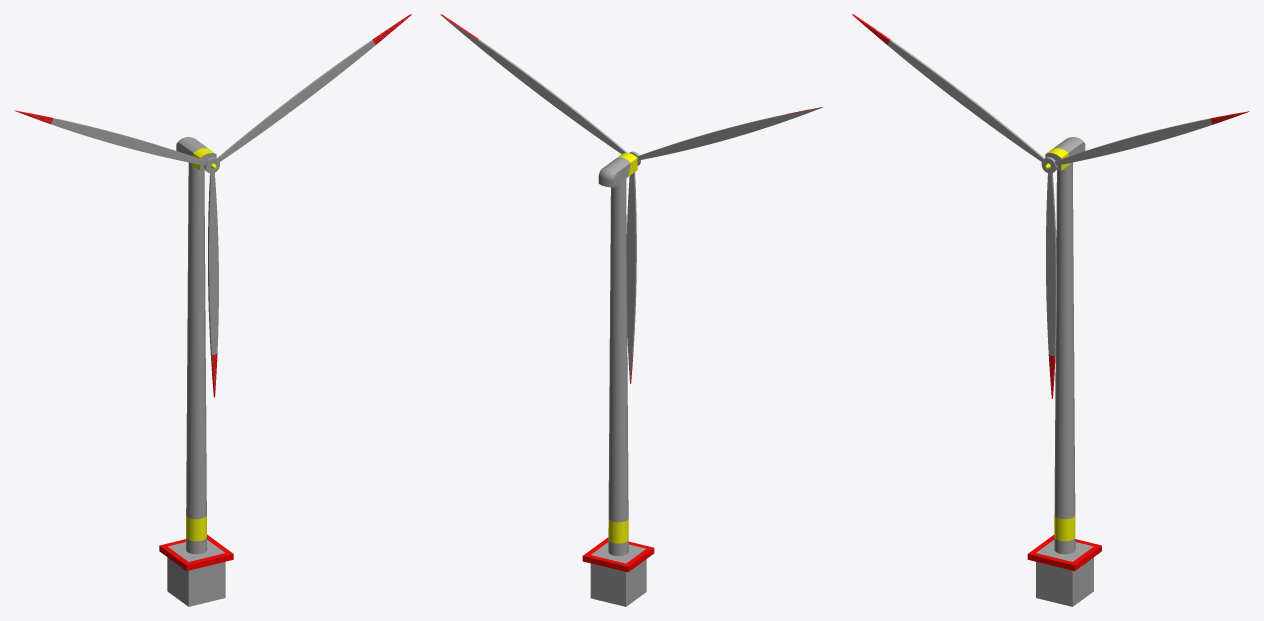
The model's file is Wind Turbine.FBX.
3 renders of one model, left to right at view 1: azimuth 30°, elevation 25°; view 2: azimuth 150°, elevation 25°; view 3: azimuth 330°, elevation 25°, orthographic. The views are drawn at different scales.
Visible parts, largest first — view 1: Wind Turbine, Propeller; view 2: Wind Turbine, Propeller; view 3: Wind Turbine, Propeller.
Boxes of the visible parts, x1,y1,x2,y2 form: Wind Turbine: (159,137,233,606); Propeller: (14,14,411,397); Wind Turbine: (582,153,654,606); Propeller: (440,14,822,383); Wind Turbine: (1027,137,1101,606); Propeller: (852,14,1249,398).
Size of the model in its own units: 291 by 381 by 41.79.
